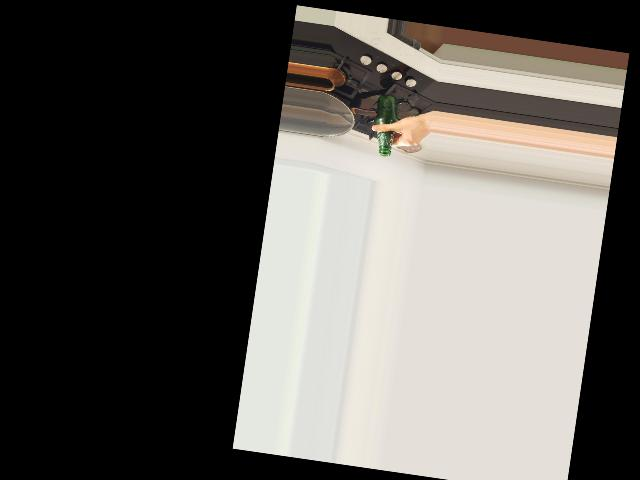beer: (370, 93, 399, 156)
